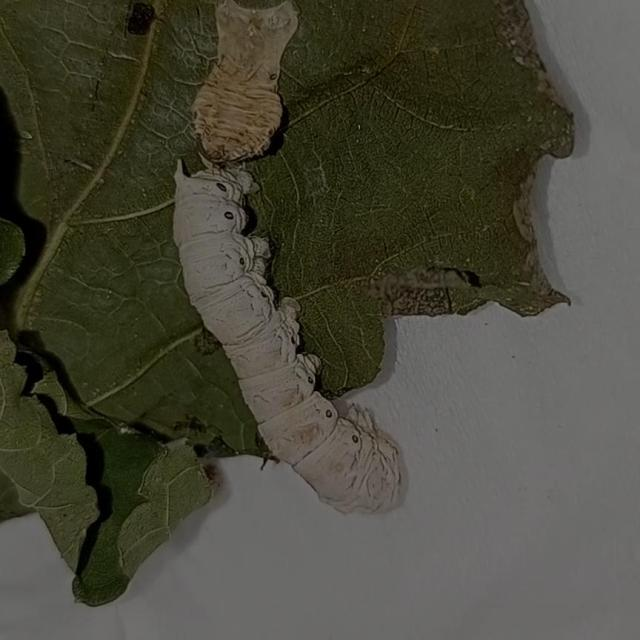Healthy: (163, 162, 418, 521)
